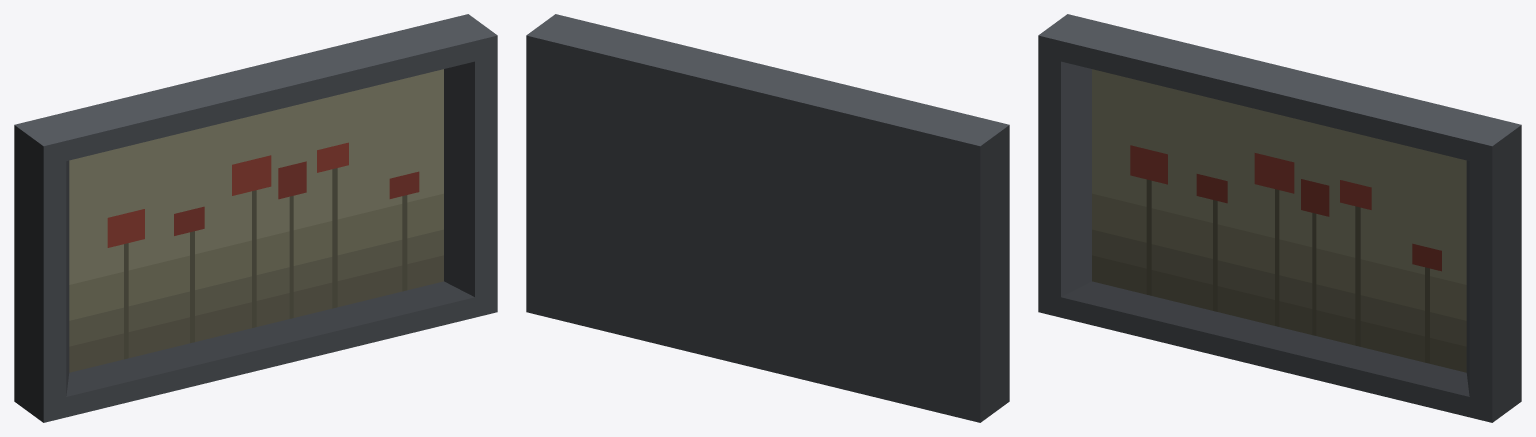
The model's file is AI_Prop_Painting_04.fbx.
The picture shows the model from 3 angles, left to right: view 1: azimuth 30°, elevation 25°; view 2: azimuth 150°, elevation 25°; view 3: azimuth 330°, elevation 25°; orthographic projection.
Visible parts, largest first — view 1: AI_Prop_Painting_04; view 2: AI_Prop_Painting_04; view 3: AI_Prop_Painting_04.
Boxes of the visible parts, x1,y1,x2,y2 form: AI_Prop_Painting_04: (14, 14, 497, 422); AI_Prop_Painting_04: (526, 14, 1009, 422); AI_Prop_Painting_04: (1038, 14, 1521, 422).
Bounding box in the file's own units: 1.55 × 0.9048 × 0.1742.
